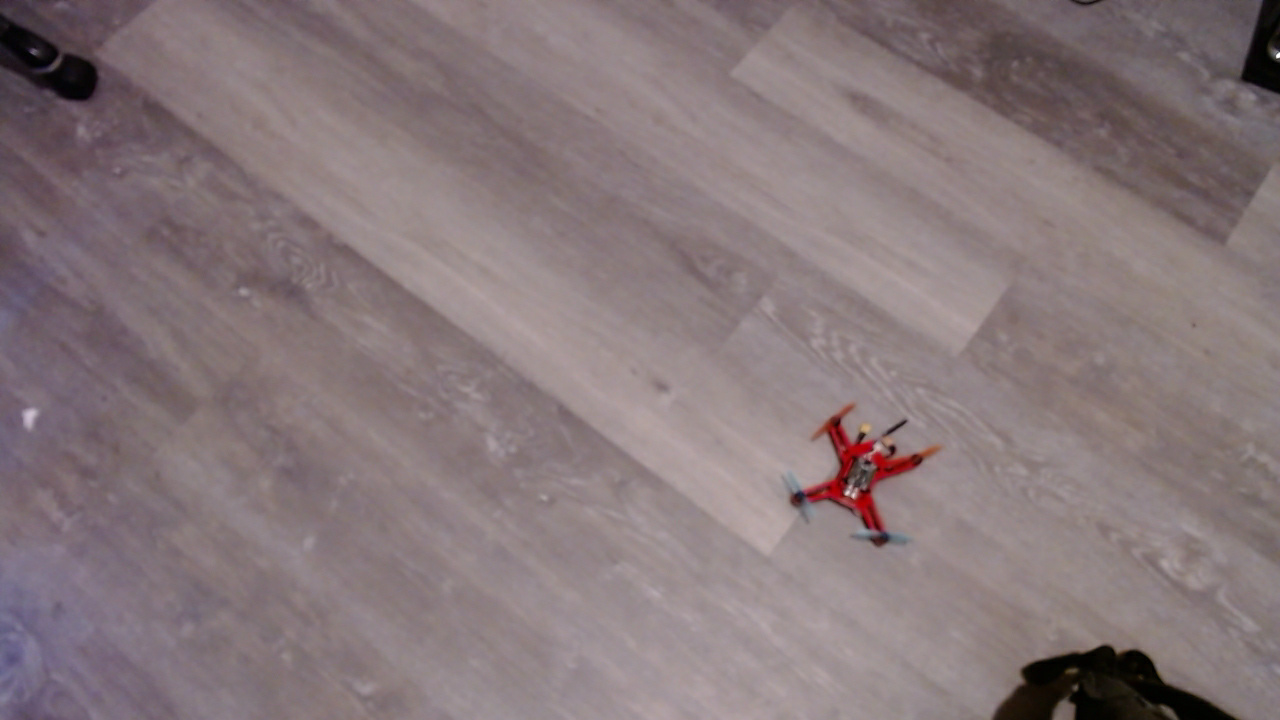crazyflie: (787, 408, 950, 557)
